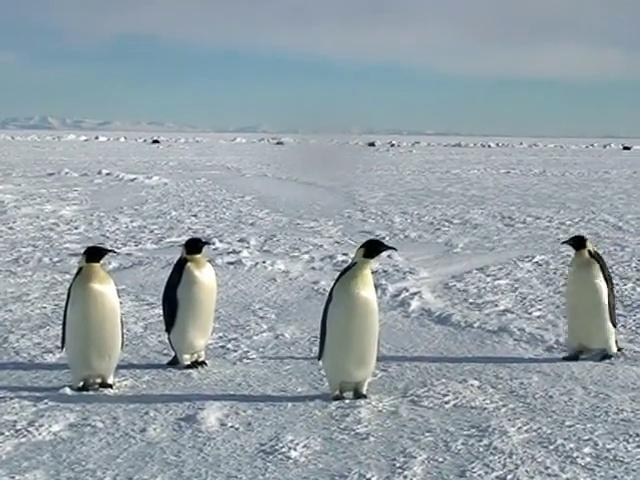animal: (319, 240, 397, 400)
